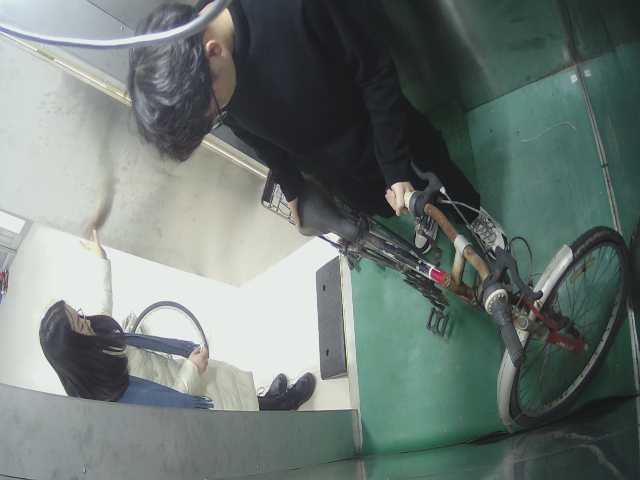bicycle: (261, 170, 638, 444)
person: (124, 1, 527, 262), (35, 233, 321, 423)
